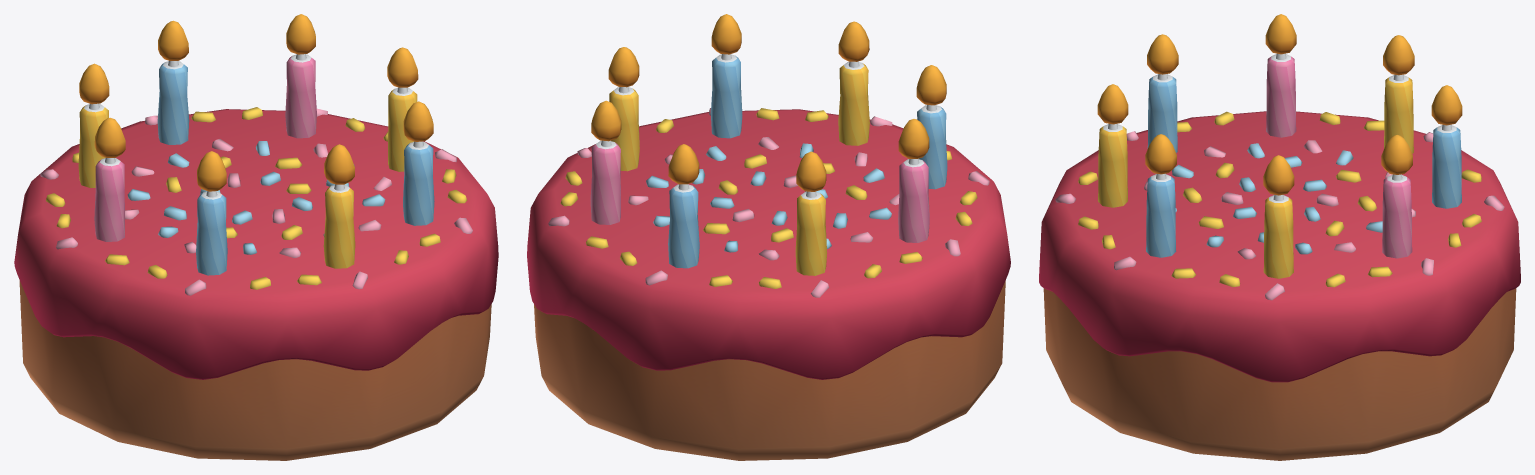
The model's file is cake_birthday.glb.
3 renders of one model, left to right at view 1: azimuth 30°, elevation 25°; view 2: azimuth 150°, elevation 25°; view 3: azimuth 270°, elevation 25°, orthographic.
Visible parts, largest first — view 1: cake_birthday, cake_birthday_candle_fire; view 2: cake_birthday, cake_birthday_candle_fire; view 3: cake_birthday, cake_birthday_candle_fire.
Part boxes in pixels (x1,y1,x2,y2): cake_birthday: [14, 54, 498, 460]; cake_birthday_candle_fire: [79, 14, 433, 191]; cake_birthday: [527, 54, 1010, 460]; cake_birthday_candle_fire: [591, 14, 946, 191]; cake_birthday: [1039, 53, 1520, 460]; cake_birthday_candle_fire: [1097, 14, 1462, 195].
Bounding box in the file's own units: 1.22 × 0.8021 × 1.22.
1 material, 1 textured.
